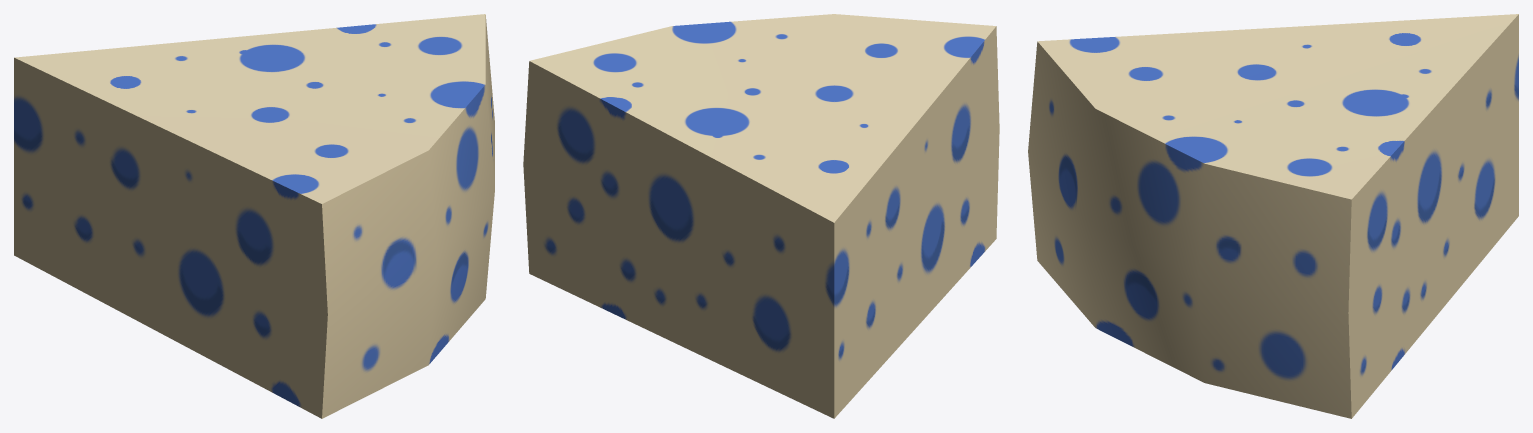
The model's file is Cheese_Blue.FBX.
The picture shows the model from 3 angles, left to right: view 1: azimuth 30°, elevation 25°; view 2: azimuth 150°, elevation 25°; view 3: azimuth 270°, elevation 25°; orthographic projection. The views are drawn at different scales.
Parts seen in each view (by area): view 1: Cylinder001; view 2: Cylinder001; view 3: Cylinder001.
Boxes of the visible parts, box(x1,y1,x2,y2) form: Cylinder001: box(14, 14, 494, 418); Cylinder001: box(523, 14, 999, 418); Cylinder001: box(1028, 14, 1518, 418).
Size of the model in its own units: 13.55 by 7 by 14.2.
